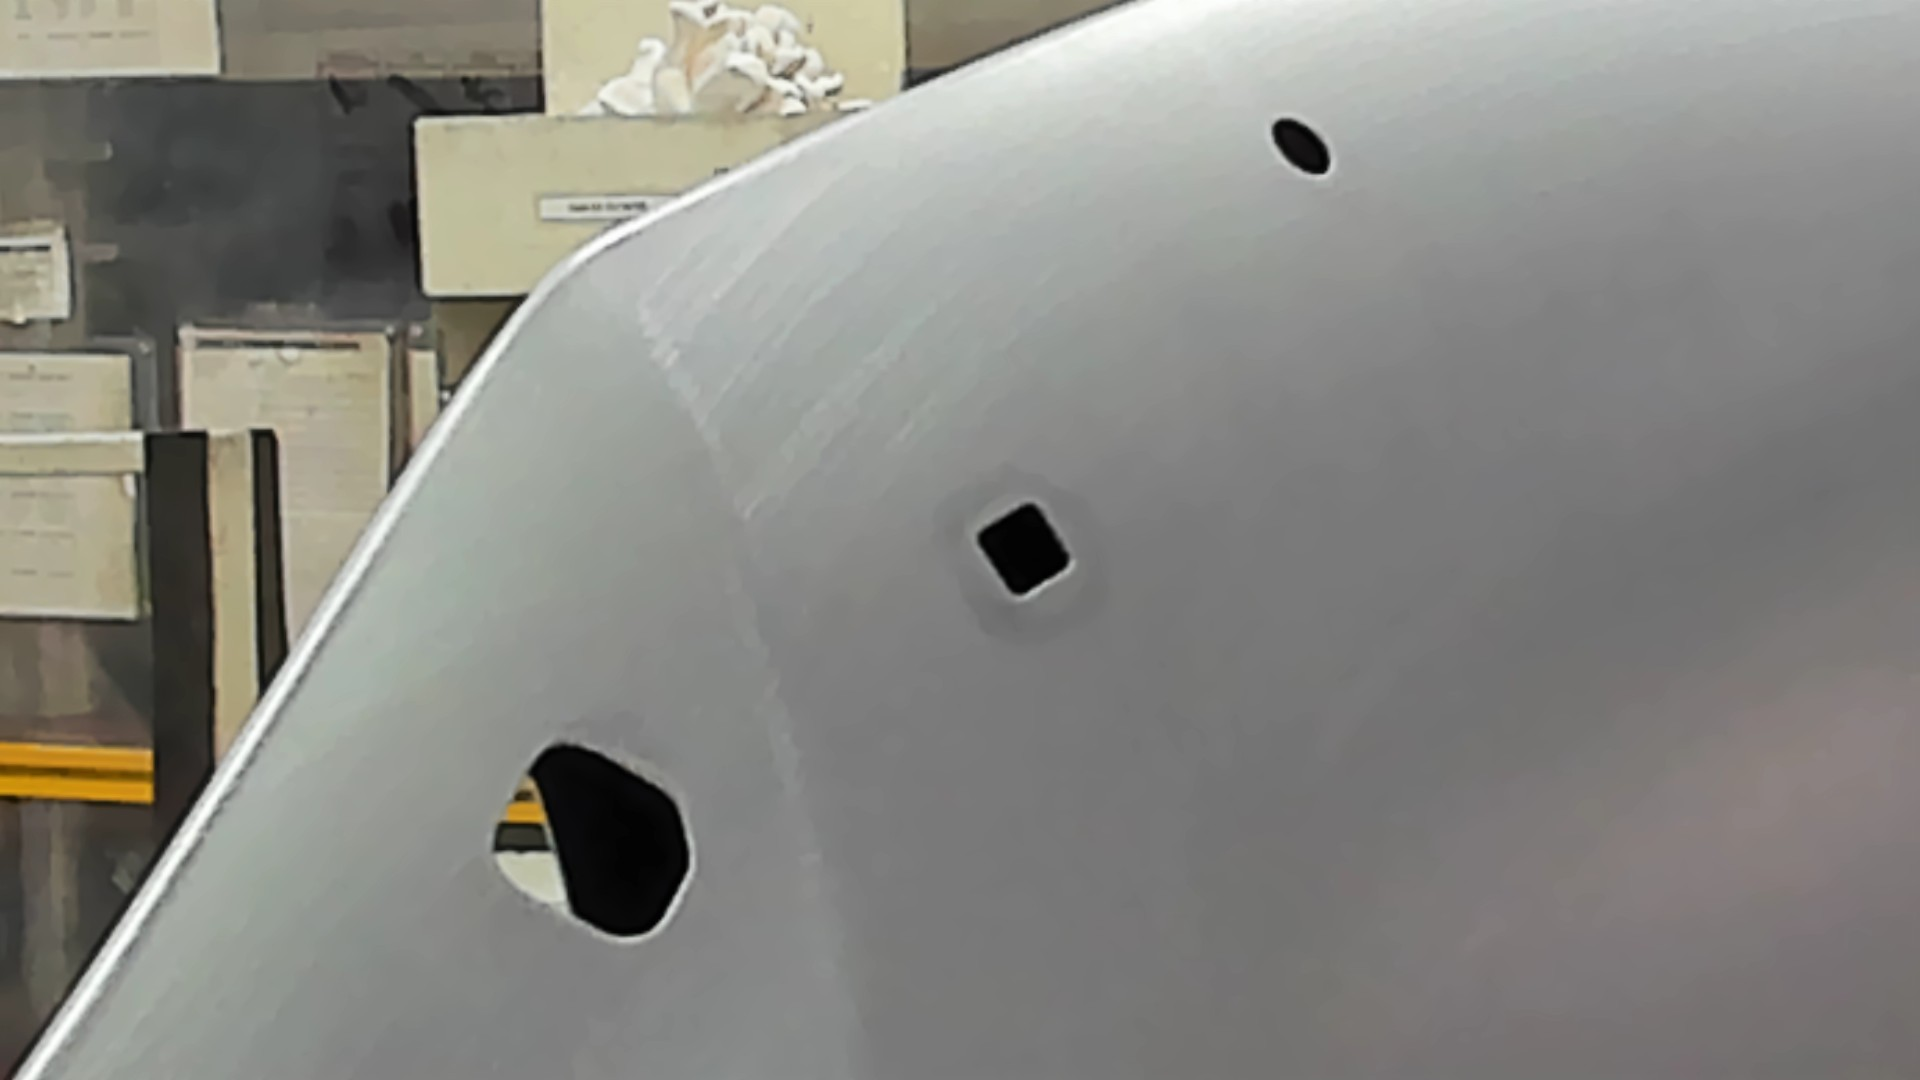chico: (1269, 115, 1336, 181)
grande: (487, 736, 700, 951)
mediano: (969, 496, 1077, 609)
